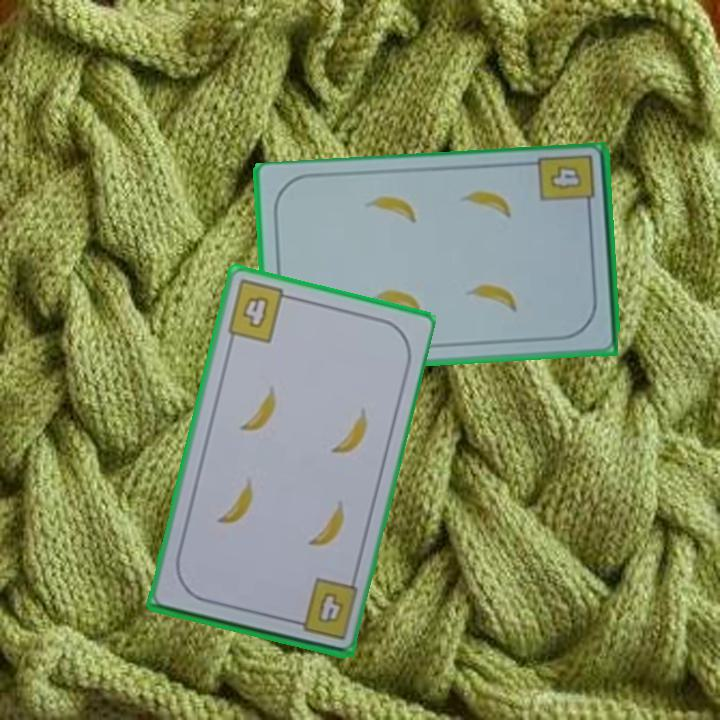4b: (223, 276, 297, 346), (286, 574, 361, 643), (535, 151, 598, 217)
